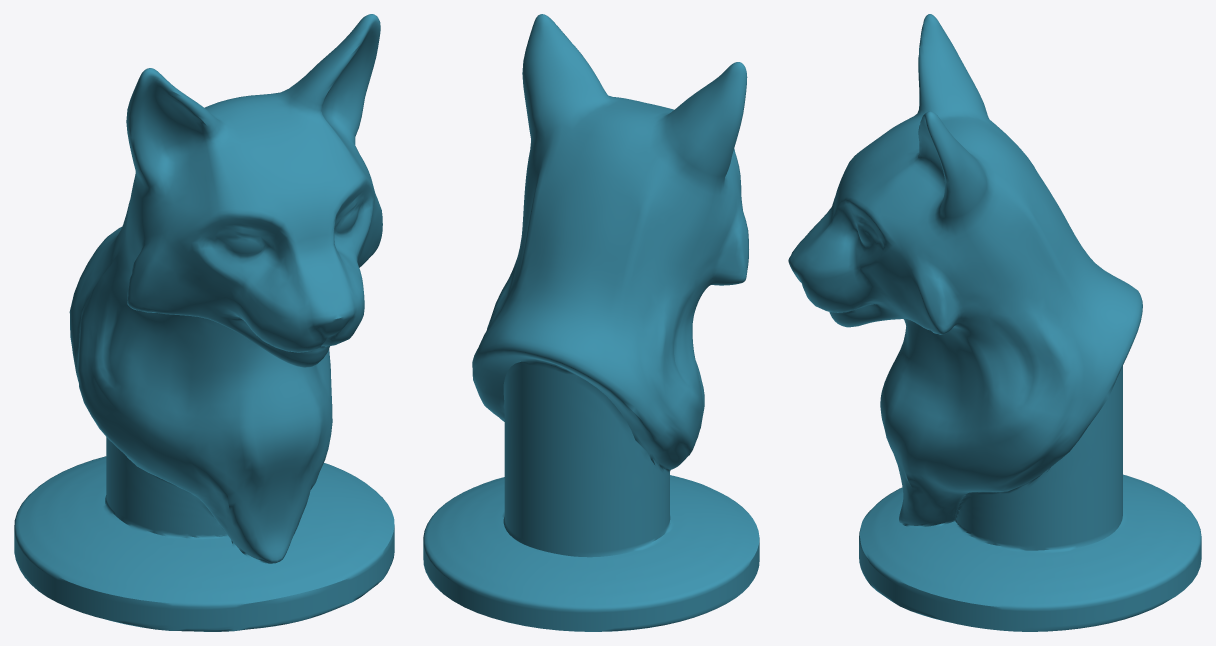
3 views of the same model, side by side, from view 1: azimuth 30°, elevation 25°; view 2: azimuth 150°, elevation 25°; view 3: azimuth 270°, elevation 25° (orthographic). The views are drawn at different scales.
Visible parts, largest first — view 1: Object_2; view 2: Object_2; view 3: Object_2.
Boxes of the visible parts, x1,y1,x2,y2 form: Object_2: (14, 14, 394, 631); Object_2: (423, 14, 759, 631); Object_2: (788, 14, 1201, 631).
Size of the model in its own units: 0.6253 by 1 by 0.7545.
